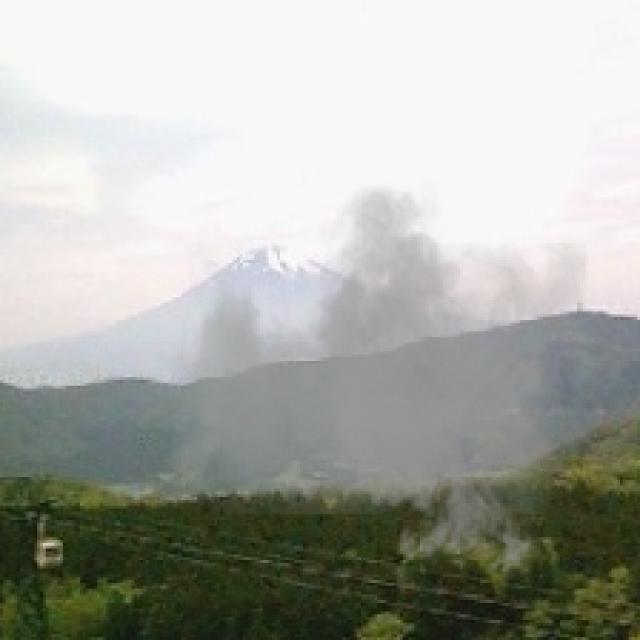smoke: (172, 168, 588, 588)
